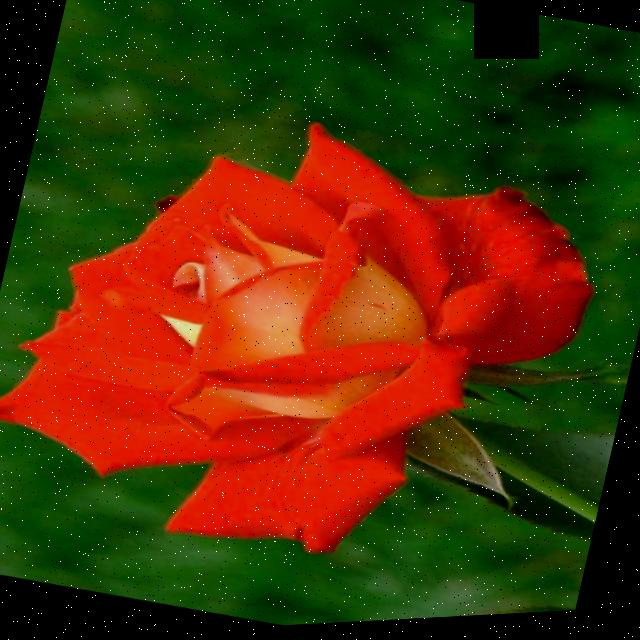rose: (0, 26, 634, 640)
